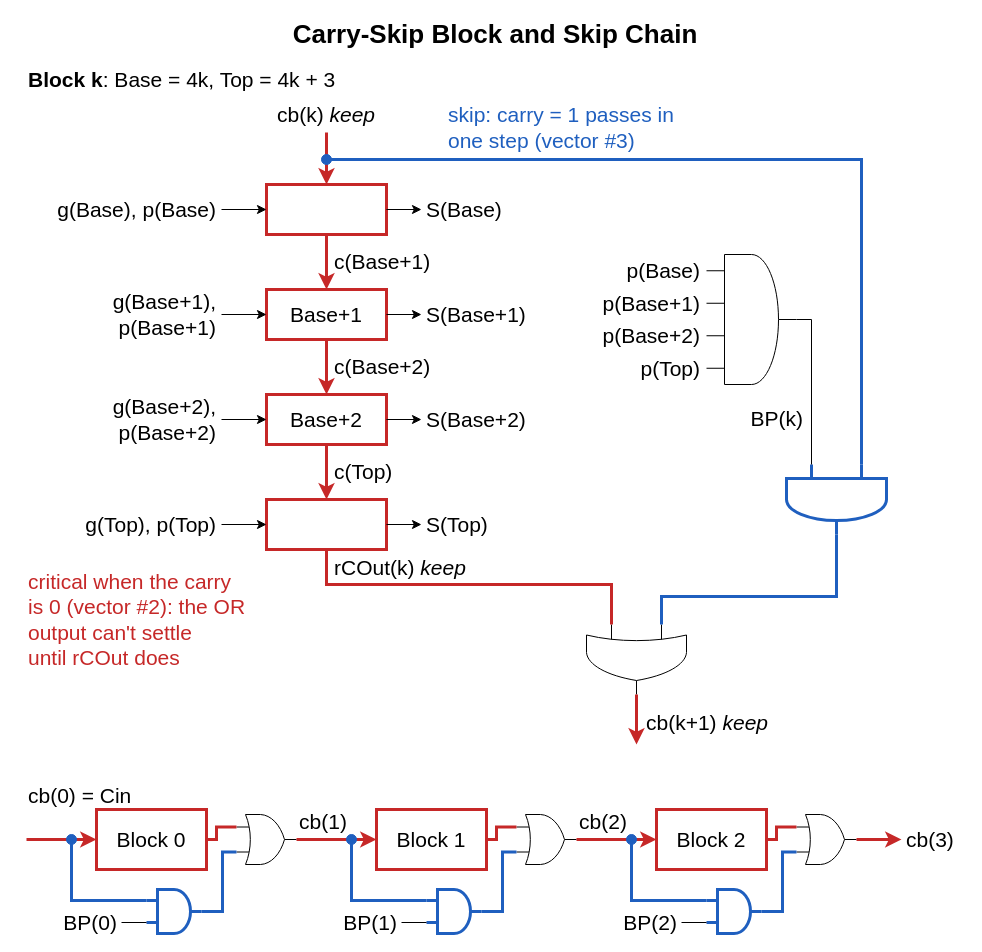
The diagram is 982 pixels wide and 952 high, and some of its shapes have lost their labels. Each missing label, with the box of its shape:
Base: (264, 182, 388, 236)
Top: (264, 498, 388, 550)
